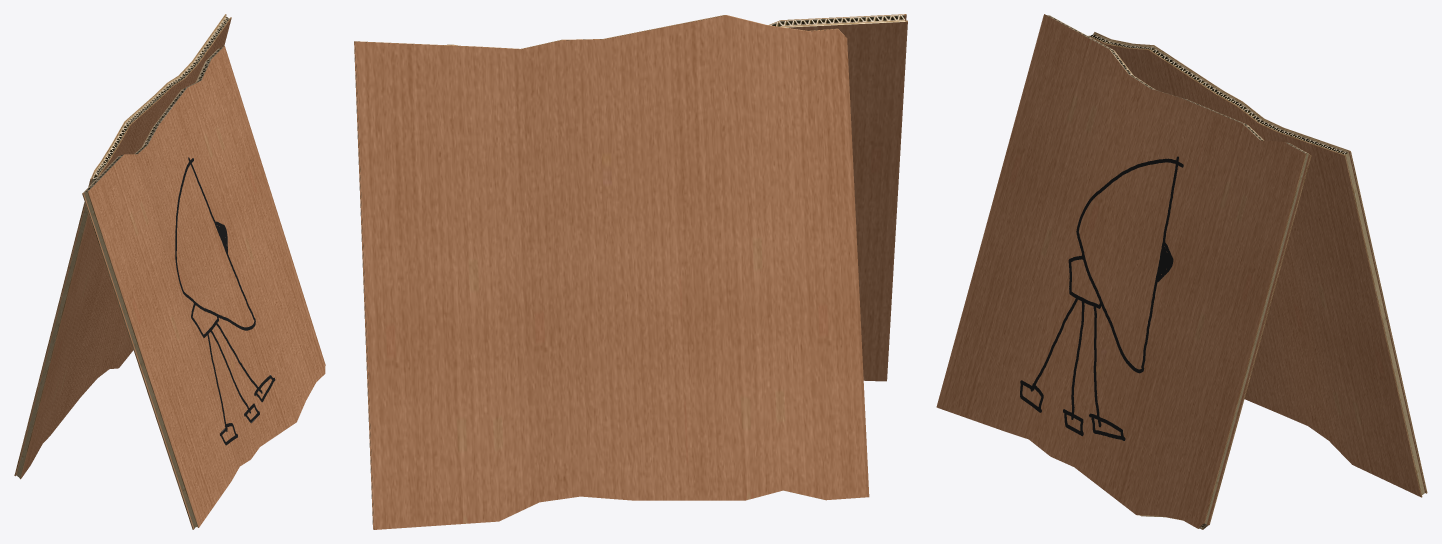
The model's file is BoxAerial.FBX.
3 views of the same model, side by side, from view 1: azimuth 30°, elevation 25°; view 2: azimuth 150°, elevation 25°; view 3: azimuth 270°, elevation 25° (orthographic). The views are drawn at different scales.
Visible parts, largest first — view 1: BoxAerial; view 2: BoxAerial; view 3: BoxAerial.
Part boxes in pixels (bbox=[...]): BoxAerial: bbox=[14, 14, 325, 529]; BoxAerial: bbox=[354, 14, 907, 529]; BoxAerial: bbox=[936, 14, 1427, 529].
Bounding box in the file's own units: 2.14 × 2.09 × 2.43.
